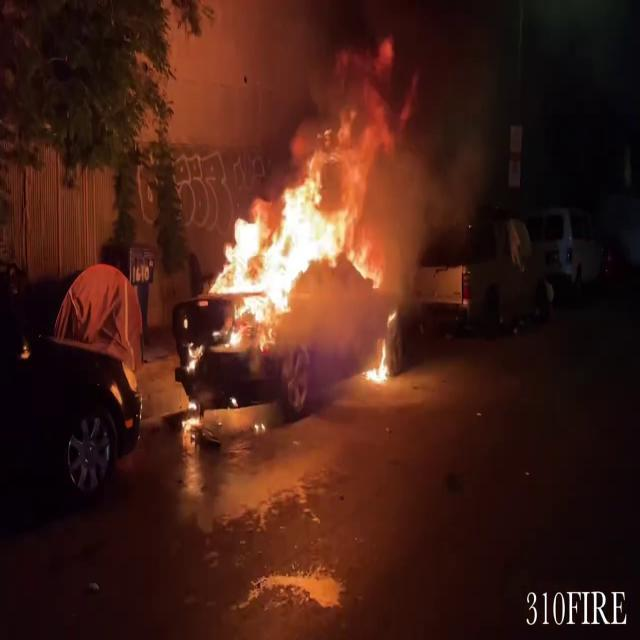Fire: (196, 62, 397, 380), (360, 335, 394, 388)
